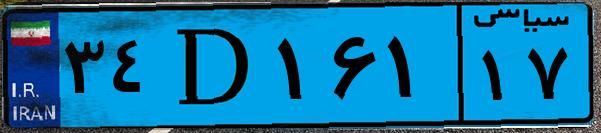1: (270, 28, 330, 110), (385, 28, 445, 110), (475, 38, 525, 113)
3: (57, 26, 110, 100)
4: (110, 28, 158, 98)
6: (330, 28, 385, 110)
7: (525, 38, 570, 115)
D: (158, 12, 270, 120)
